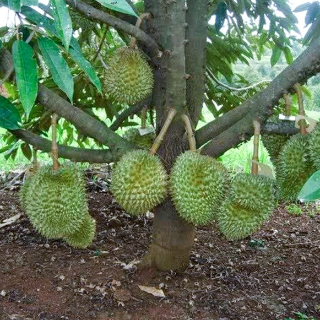sau_rieng: (24, 161, 91, 241), (172, 149, 234, 229), (108, 145, 171, 220), (222, 172, 279, 240), (101, 44, 155, 109)
